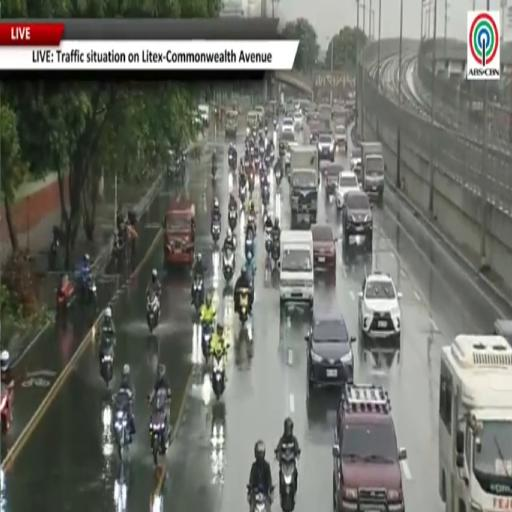car: (333, 384, 407, 511), (305, 312, 355, 388), (358, 271, 401, 346), (342, 190, 372, 251), (312, 224, 336, 274), (336, 170, 360, 210), (322, 164, 342, 198), (318, 133, 335, 163), (494, 319, 511, 346), (335, 124, 347, 151), (308, 120, 320, 143), (350, 146, 362, 168), (198, 104, 209, 126), (352, 165, 362, 186), (294, 110, 303, 130), (282, 118, 294, 133), (254, 105, 264, 122), (306, 109, 319, 122)
motorcycle: (150, 390, 169, 467), (279, 451, 296, 511), (114, 408, 131, 460), (100, 341, 114, 387), (48, 226, 62, 271), (248, 486, 273, 511), (211, 356, 225, 400), (57, 279, 73, 317), (81, 274, 97, 307), (0, 383, 10, 435), (147, 293, 159, 333), (192, 277, 203, 315), (223, 249, 235, 282), (202, 323, 212, 360), (48, 238, 59, 271), (239, 290, 249, 326), (246, 252, 255, 287), (261, 183, 270, 208), (271, 242, 279, 268), (228, 208, 237, 231), (245, 237, 254, 260), (212, 220, 220, 244), (239, 184, 247, 206), (265, 229, 272, 253), (228, 152, 236, 170), (248, 214, 255, 234), (275, 166, 282, 185), (248, 172, 254, 194), (212, 162, 217, 181), (264, 154, 270, 169), (274, 119, 278, 130)
truck: (439, 334, 511, 511), (290, 167, 317, 228), (361, 142, 385, 204), (291, 144, 319, 180), (225, 110, 238, 138)
